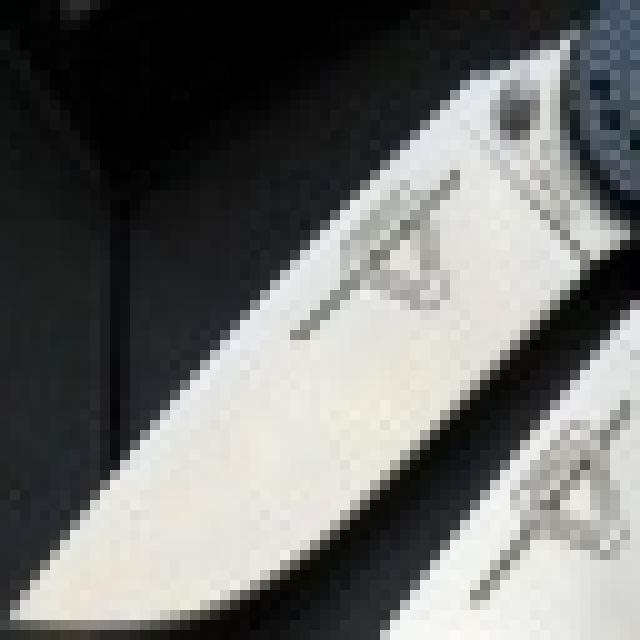knife: (0, 20, 626, 640)
